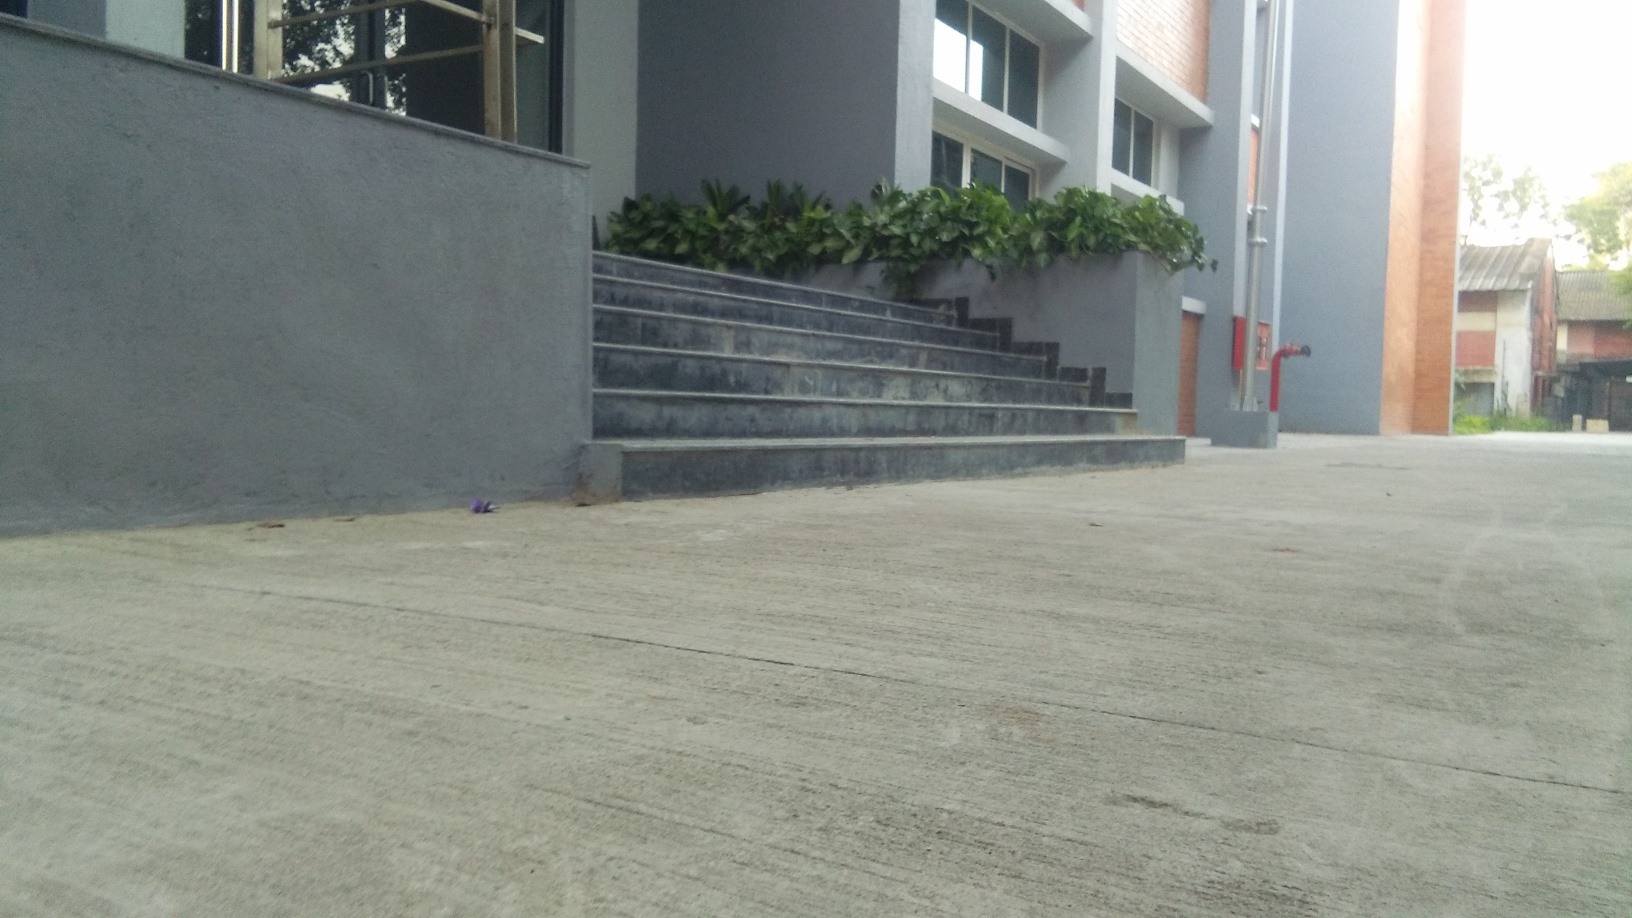stairs_up: (591, 252, 1174, 499)
